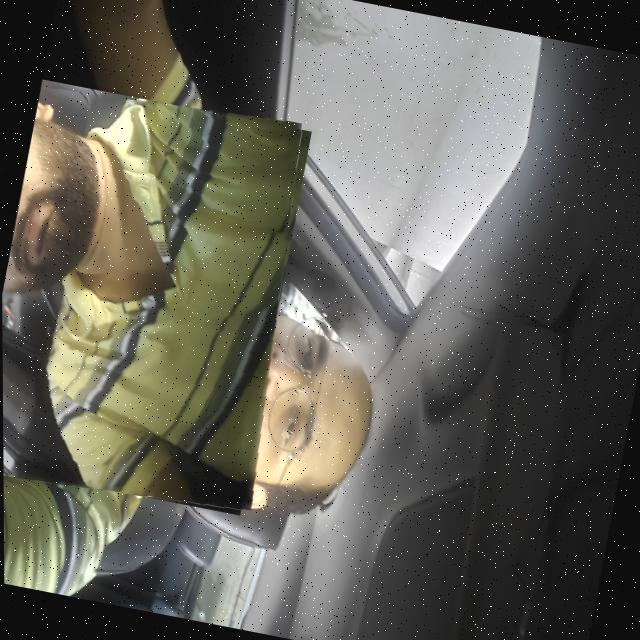no-seatbelt: (0, 76, 319, 521)
